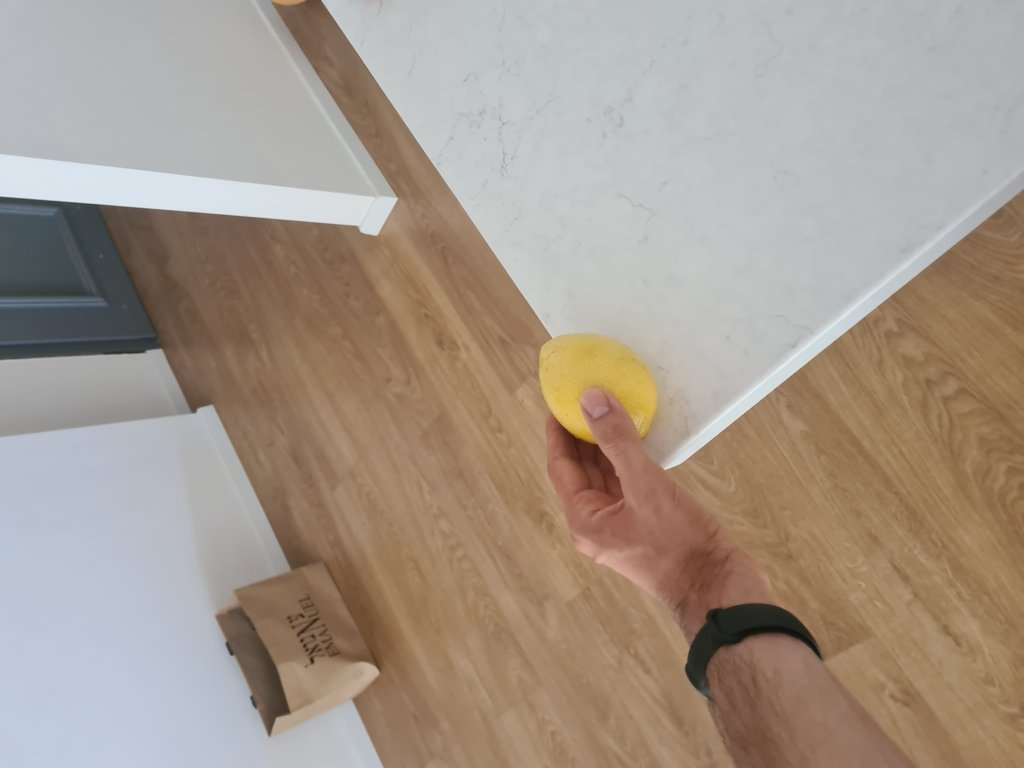lemon: (547, 335, 651, 450)
